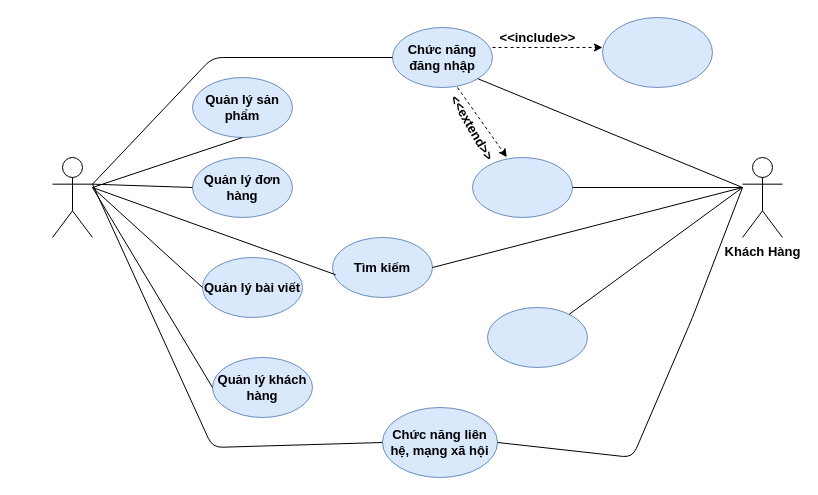
Some shapes in this 818 by 495 pixel diagram are drawn without their labels. Here are the shapes that lost their labels. From the top down, the box of each, then its label:
(602, 16, 712, 88): Đăng ký tài khoản khách hàng
(52, 156, 92, 238): Quản lý cửa hàng
(472, 156, 572, 218): Mua hàng
(486, 306, 588, 368): Xem bài viết
